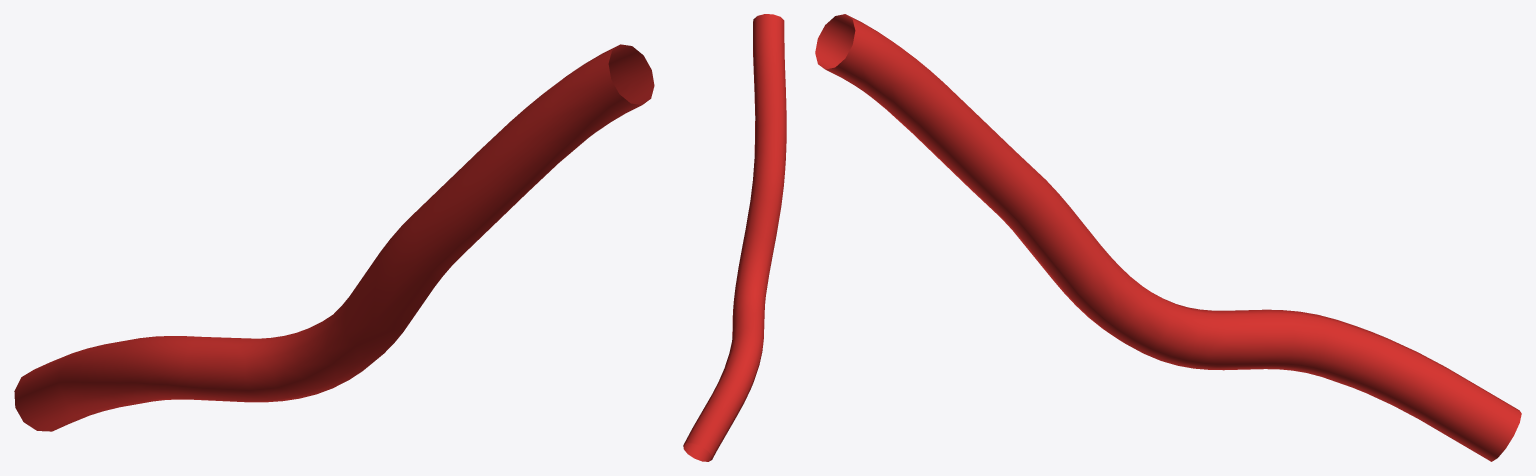
The model's file is circulatorio-deep-plantar-artery-r.glb.
3 views of the same model, side by side, from view 1: azimuth 30°, elevation 25°; view 2: azimuth 150°, elevation 25°; view 3: azimuth 270°, elevation 25° (orthographic). The views are drawn at different scales.
Parts seen in each view (by area): view 1: Deep plantar artery.r; view 2: Deep plantar artery.r; view 3: Deep plantar artery.r.
Part boxes in pixels (bbox=[...]): Deep plantar artery.r: bbox=[14, 44, 654, 431]; Deep plantar artery.r: bbox=[683, 14, 786, 461]; Deep plantar artery.r: bbox=[815, 14, 1521, 461].
Size of the model in its own units: 0.00896 by 0.018 by 0.0214.
